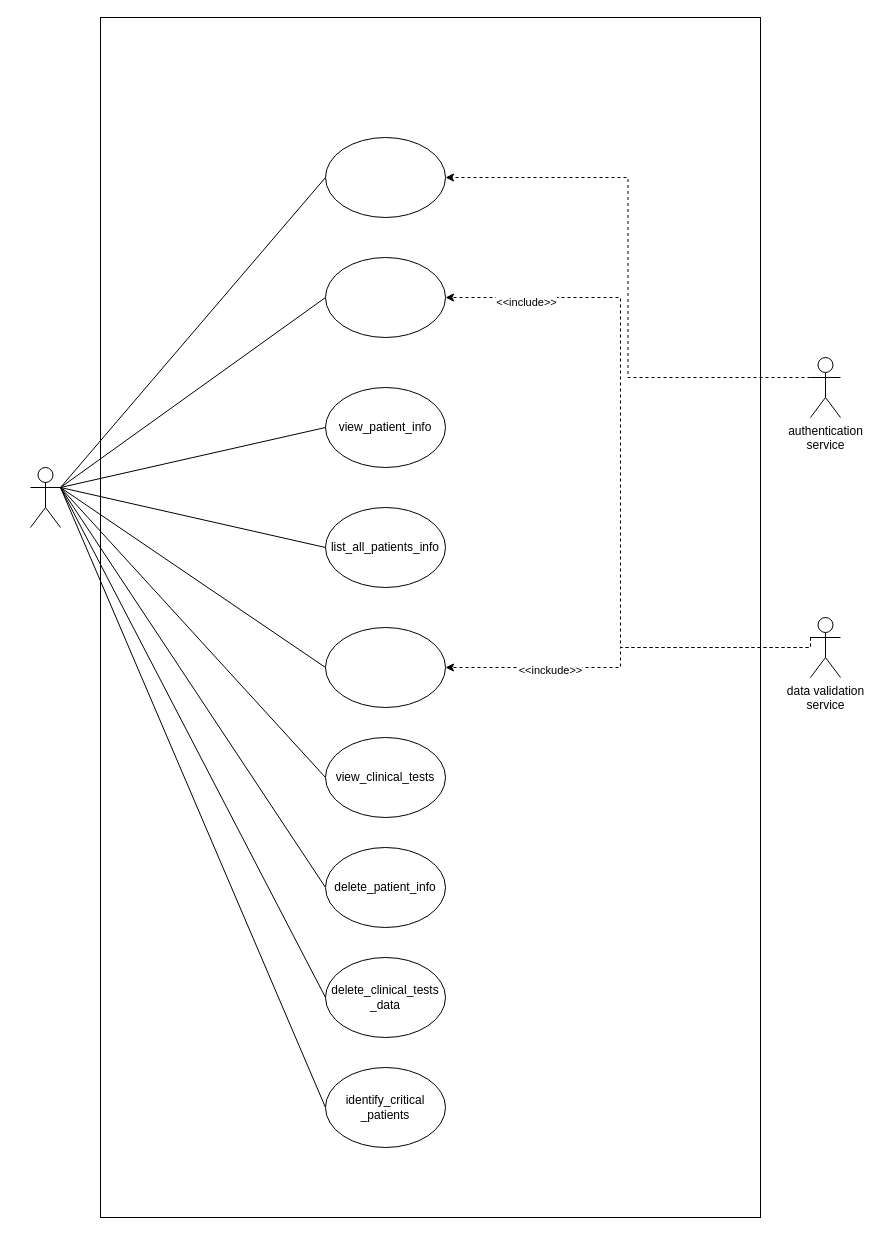
Some shapes in this 881 by 1235 pixel diagram are drawn without their labels. Here are the shapes that lost their labels. From the top down, the centre of each, then its label:
the point at 385,177: Login
the point at 385,297: add_patient_info
the point at 45,497: healthcare provider
the point at 385,667: add_clinical_tests
